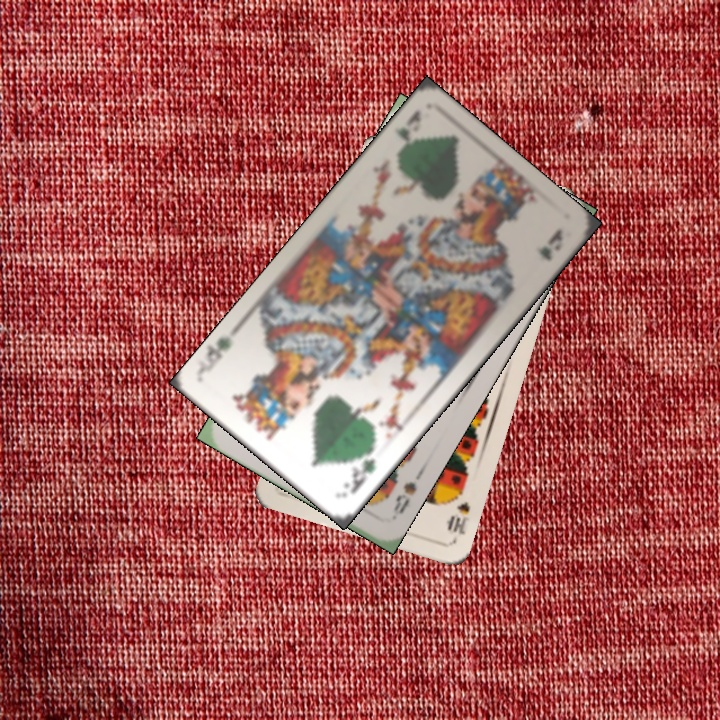GK: (339, 443, 379, 497), (392, 105, 424, 161)
S10: (443, 497, 473, 538)
S8: (389, 477, 419, 519)
